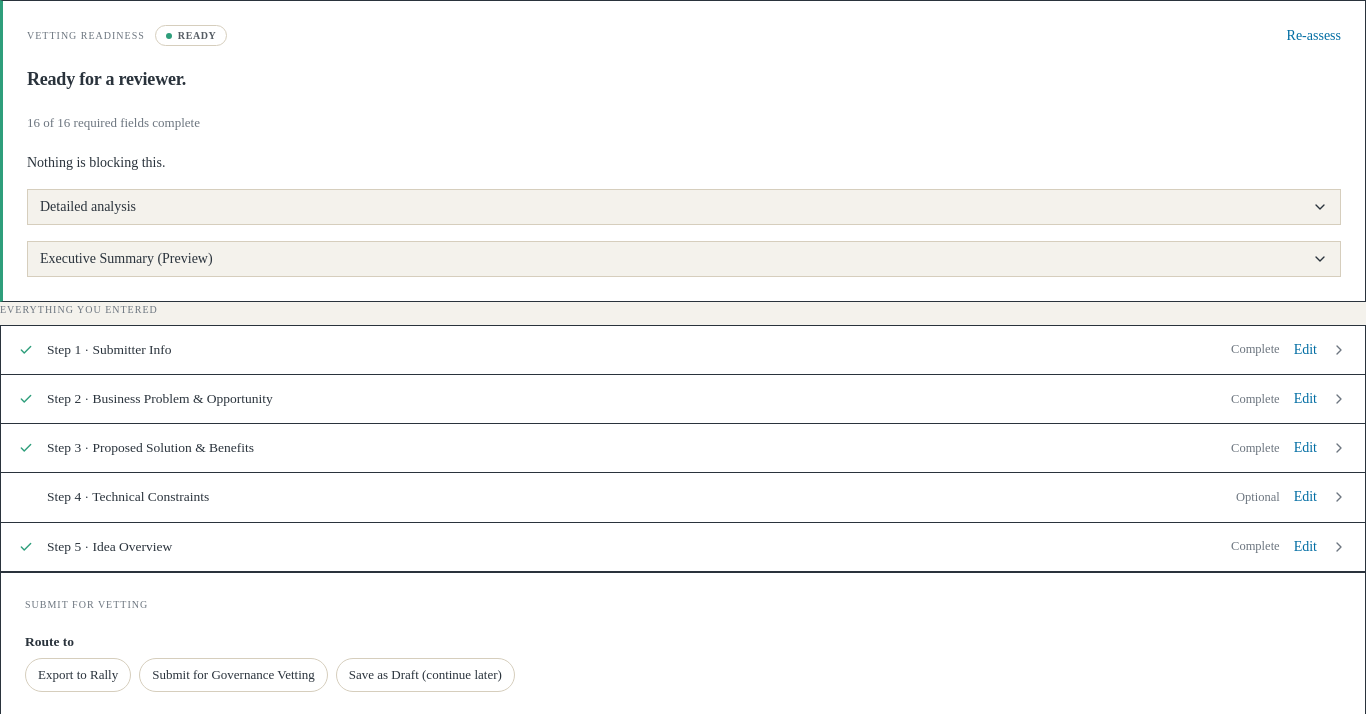
Step10ReviewSubmit — vetting readiness + submit gate (RD-2) › keeps the recap rows collapsed by default and expands one on click
Expected: the text "Contract closeout files are checked by hand." is not shown
Click the button named "Expand Step 2 details" at (1339, 399), box [1331,391,1347,407]
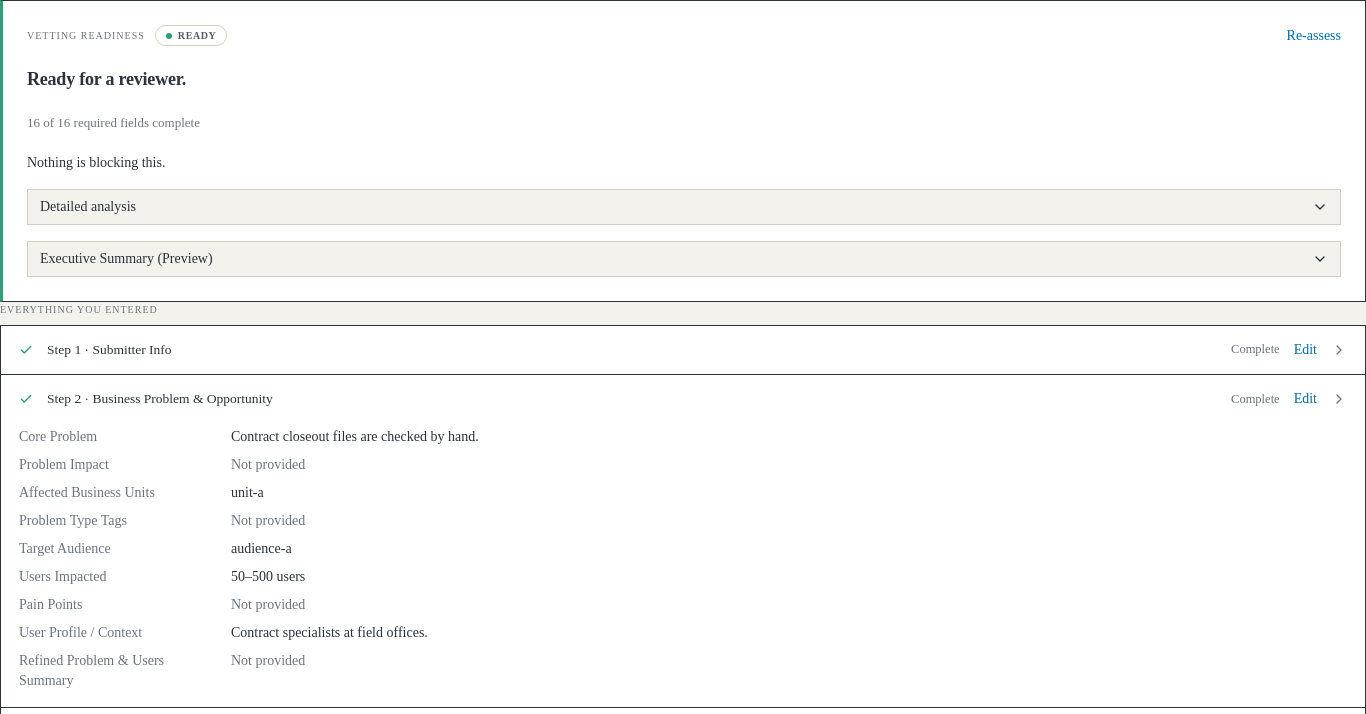
Expected: the text "Contract closeout files are checked by hand." is shown, [231,429,479,444]
